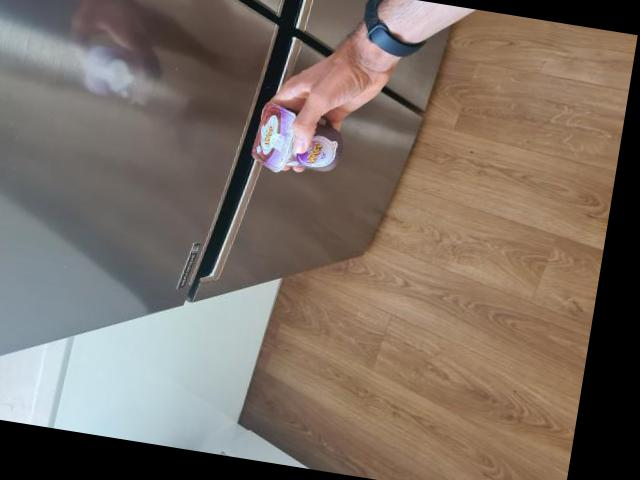milky: (246, 105, 350, 183)
